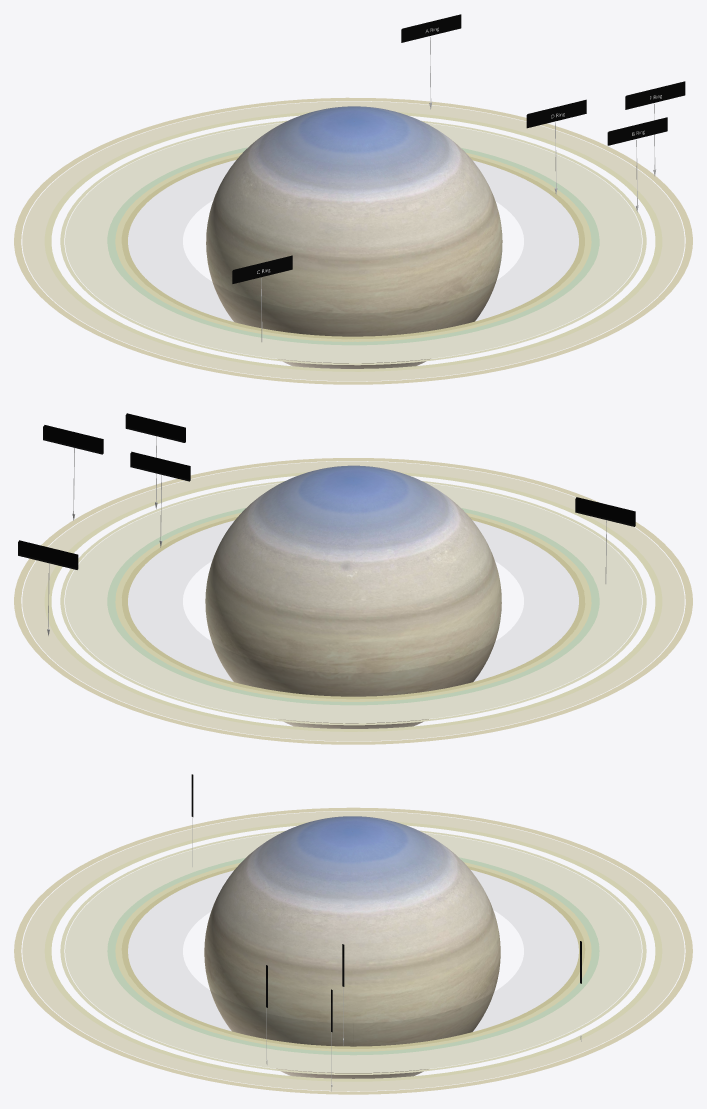
The model's file is saturn.glb.
The picture shows the model from 3 angles, top to bottom: view 1: azimuth 30°, elevation 25°; view 2: azimuth 150°, elevation 25°; view 3: azimuth 270°, elevation 25°; orthographic projection.
Parts seen in each view (by area): view 1: Kugel, b_ring3, a_ring2, a_ring, b_ring2, a_ring3, b_ring4, b_ring5, b_ring, b_ring6, Plane.002, Plane.001 (+3 smaller); view 2: Kugel, b_ring3, a_ring2, a_ring, b_ring2, a_ring3, b_ring4, b_ring5, b_ring6, b_ring, Plane.002, Plane.004 (+3 smaller); view 3: Kugel, b_ring3, a_ring2, a_ring, b_ring2, a_ring3, b_ring4, b_ring5, b_ring, b_ring6.
Part boxes in pixels (left/top/right/bottom): Kugel: left=206, top=106, right=502, bottom=368; b_ring3: left=74, top=128, right=632, bottom=359; a_ring2: left=22, top=101, right=684, bottom=381; a_ring: left=14, top=97, right=692, bottom=384; b_ring2: left=65, top=123, right=641, bottom=363; a_ring3: left=44, top=112, right=662, bottom=371; b_ring4: left=107, top=147, right=599, bottom=345; b_ring5: left=115, top=152, right=591, bottom=341; b_ring: left=60, top=120, right=646, bottom=365; b_ring6: left=121, top=156, right=584, bottom=339; Plane.002: left=625, top=81, right=685, bottom=109; Plane.001: left=401, top=14, right=461, bottom=42; Kugel: left=205, top=465, right=501, bottom=728; b_ring3: left=74, top=488, right=632, bottom=719; a_ring2: left=22, top=461, right=684, bottom=741; a_ring: left=14, top=458, right=692, bottom=744; b_ring2: left=65, top=483, right=641, bottom=723; a_ring3: left=44, top=472, right=662, bottom=731; b_ring4: left=107, top=507, right=599, bottom=705; b_ring5: left=115, top=512, right=591, bottom=701; b_ring6: left=121, top=516, right=585, bottom=699; b_ring: left=60, top=480, right=646, bottom=725; Plane.002: left=43, top=425, right=103, bottom=454; Plane.004: left=575, top=497, right=635, bottom=526; Kugel: left=204, top=816, right=500, bottom=1078; b_ring3: left=74, top=838, right=632, bottom=1068; a_ring2: left=22, top=811, right=684, bottom=1091; a_ring: left=14, top=807, right=692, bottom=1094; b_ring2: left=65, top=833, right=641, bottom=1072; a_ring3: left=44, top=822, right=662, bottom=1081; b_ring4: left=107, top=857, right=599, bottom=1055; b_ring5: left=115, top=862, right=591, bottom=1051; b_ring: left=60, top=830, right=646, bottom=1074; b_ring6: left=121, top=866, right=585, bottom=1048.
Size of the model in its own units: 4.6 by 1.73 by 4.4.
16 materials, 1 textured.
